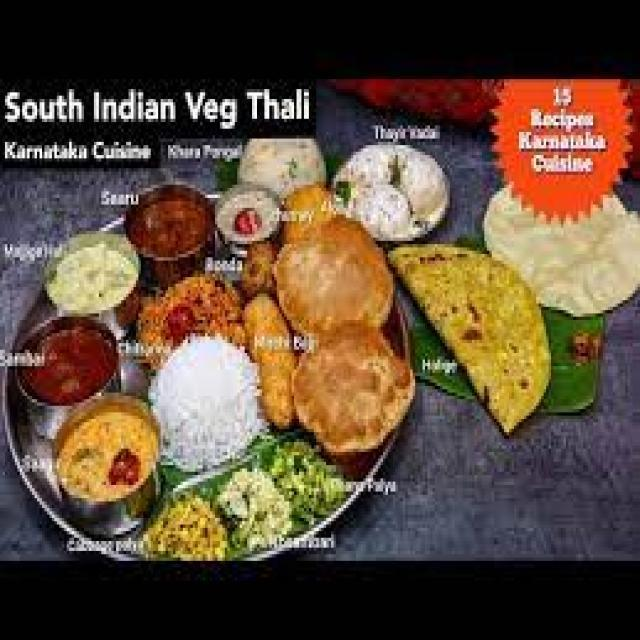dal: (45, 236, 135, 320)
papad: (404, 247, 557, 407), (530, 203, 640, 314)
pickle: (561, 324, 607, 365)
rice: (158, 335, 260, 470)
roti: (268, 248, 414, 446)
sweet: (52, 395, 162, 519), (12, 321, 121, 411)
veg-fry: (47, 391, 162, 520)
